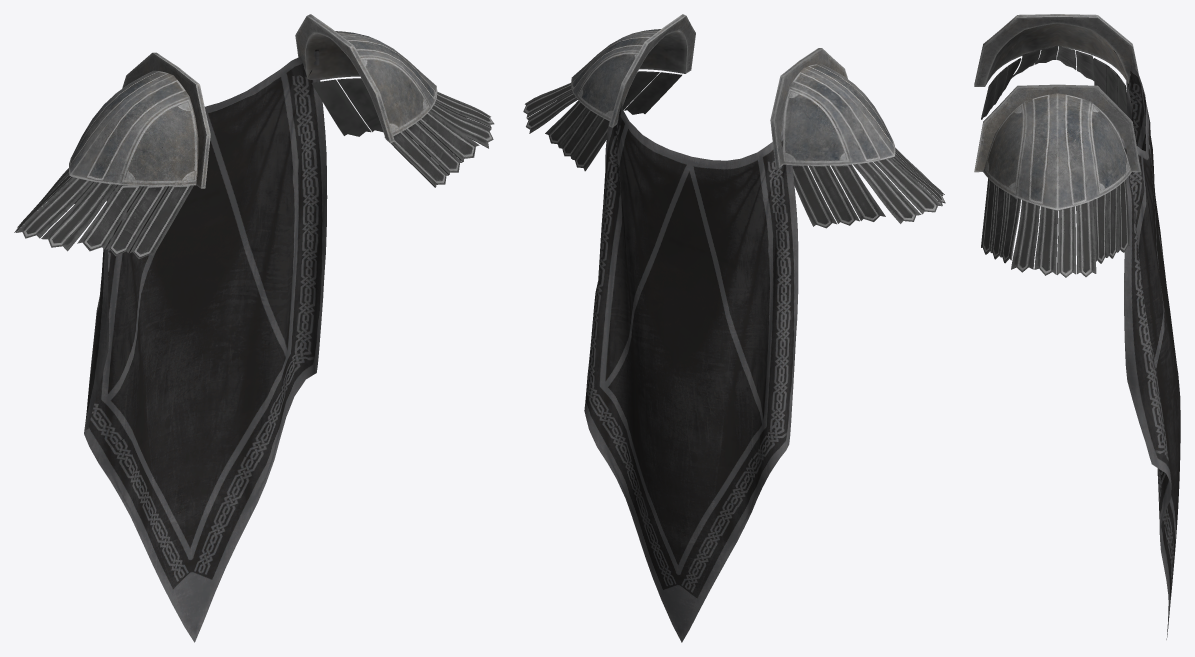
The model's file is sk_dwarf_erebor_pauldron_plate_cape_heavy_e.fbx.
3 renders of one model, left to right at view 1: azimuth 30°, elevation 25°; view 2: azimuth 150°, elevation 25°; view 3: azimuth 270°, elevation 25°, orthographic. The views are drawn at different scales.
Visible parts, largest first — view 1: sk_dwarf_erebor_pauldron_plate_cape_heavy_e.1, sk_dwarf_erebor_pauldron_plate_cape_heavy_e.0; view 2: sk_dwarf_erebor_pauldron_plate_cape_heavy_e.1, sk_dwarf_erebor_pauldron_plate_cape_heavy_e.0; view 3: sk_dwarf_erebor_pauldron_plate_cape_heavy_e.0, sk_dwarf_erebor_pauldron_plate_cape_heavy_e.1.
Boxes of the visible parts, left/top/right/bottom form: sk_dwarf_erebor_pauldron_plate_cape_heavy_e.1: left=84, top=49, right=327, bottom=642; sk_dwarf_erebor_pauldron_plate_cape_heavy_e.0: left=14, top=14, right=494, bottom=258; sk_dwarf_erebor_pauldron_plate_cape_heavy_e.1: left=584, top=102, right=798, bottom=642; sk_dwarf_erebor_pauldron_plate_cape_heavy_e.0: left=523, top=14, right=945, bottom=228; sk_dwarf_erebor_pauldron_plate_cape_heavy_e.0: left=974, top=14, right=1140, bottom=277; sk_dwarf_erebor_pauldron_plate_cape_heavy_e.1: left=1113, top=50, right=1180, bottom=639.
Size of the model in its own units: 0.9344 by 0.3779 by 1.2.
Materials: 2 (2 with a texture image).
